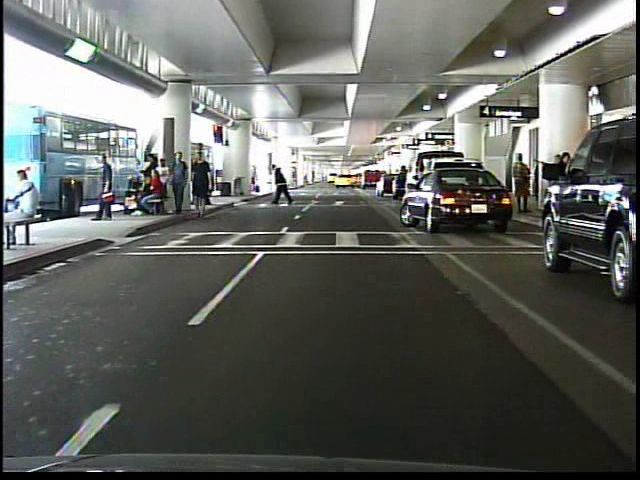person: (8, 163, 44, 248), (90, 148, 121, 228), (512, 150, 531, 215), (274, 162, 298, 208)
